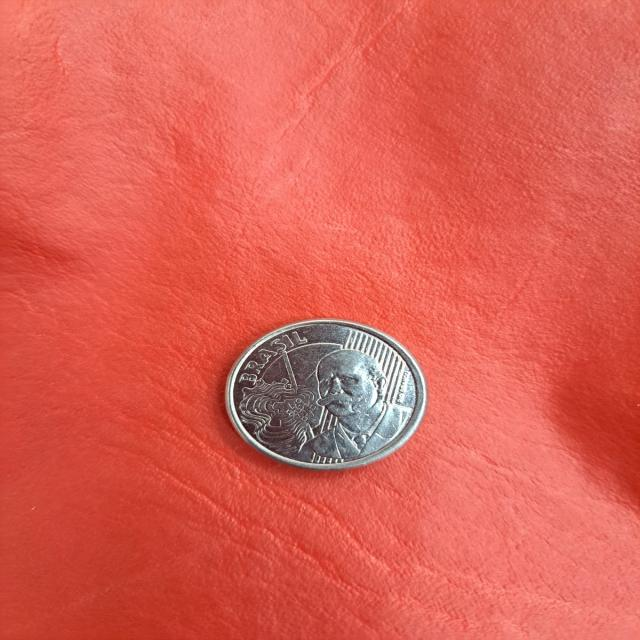50 cents: (213, 312, 440, 474)
